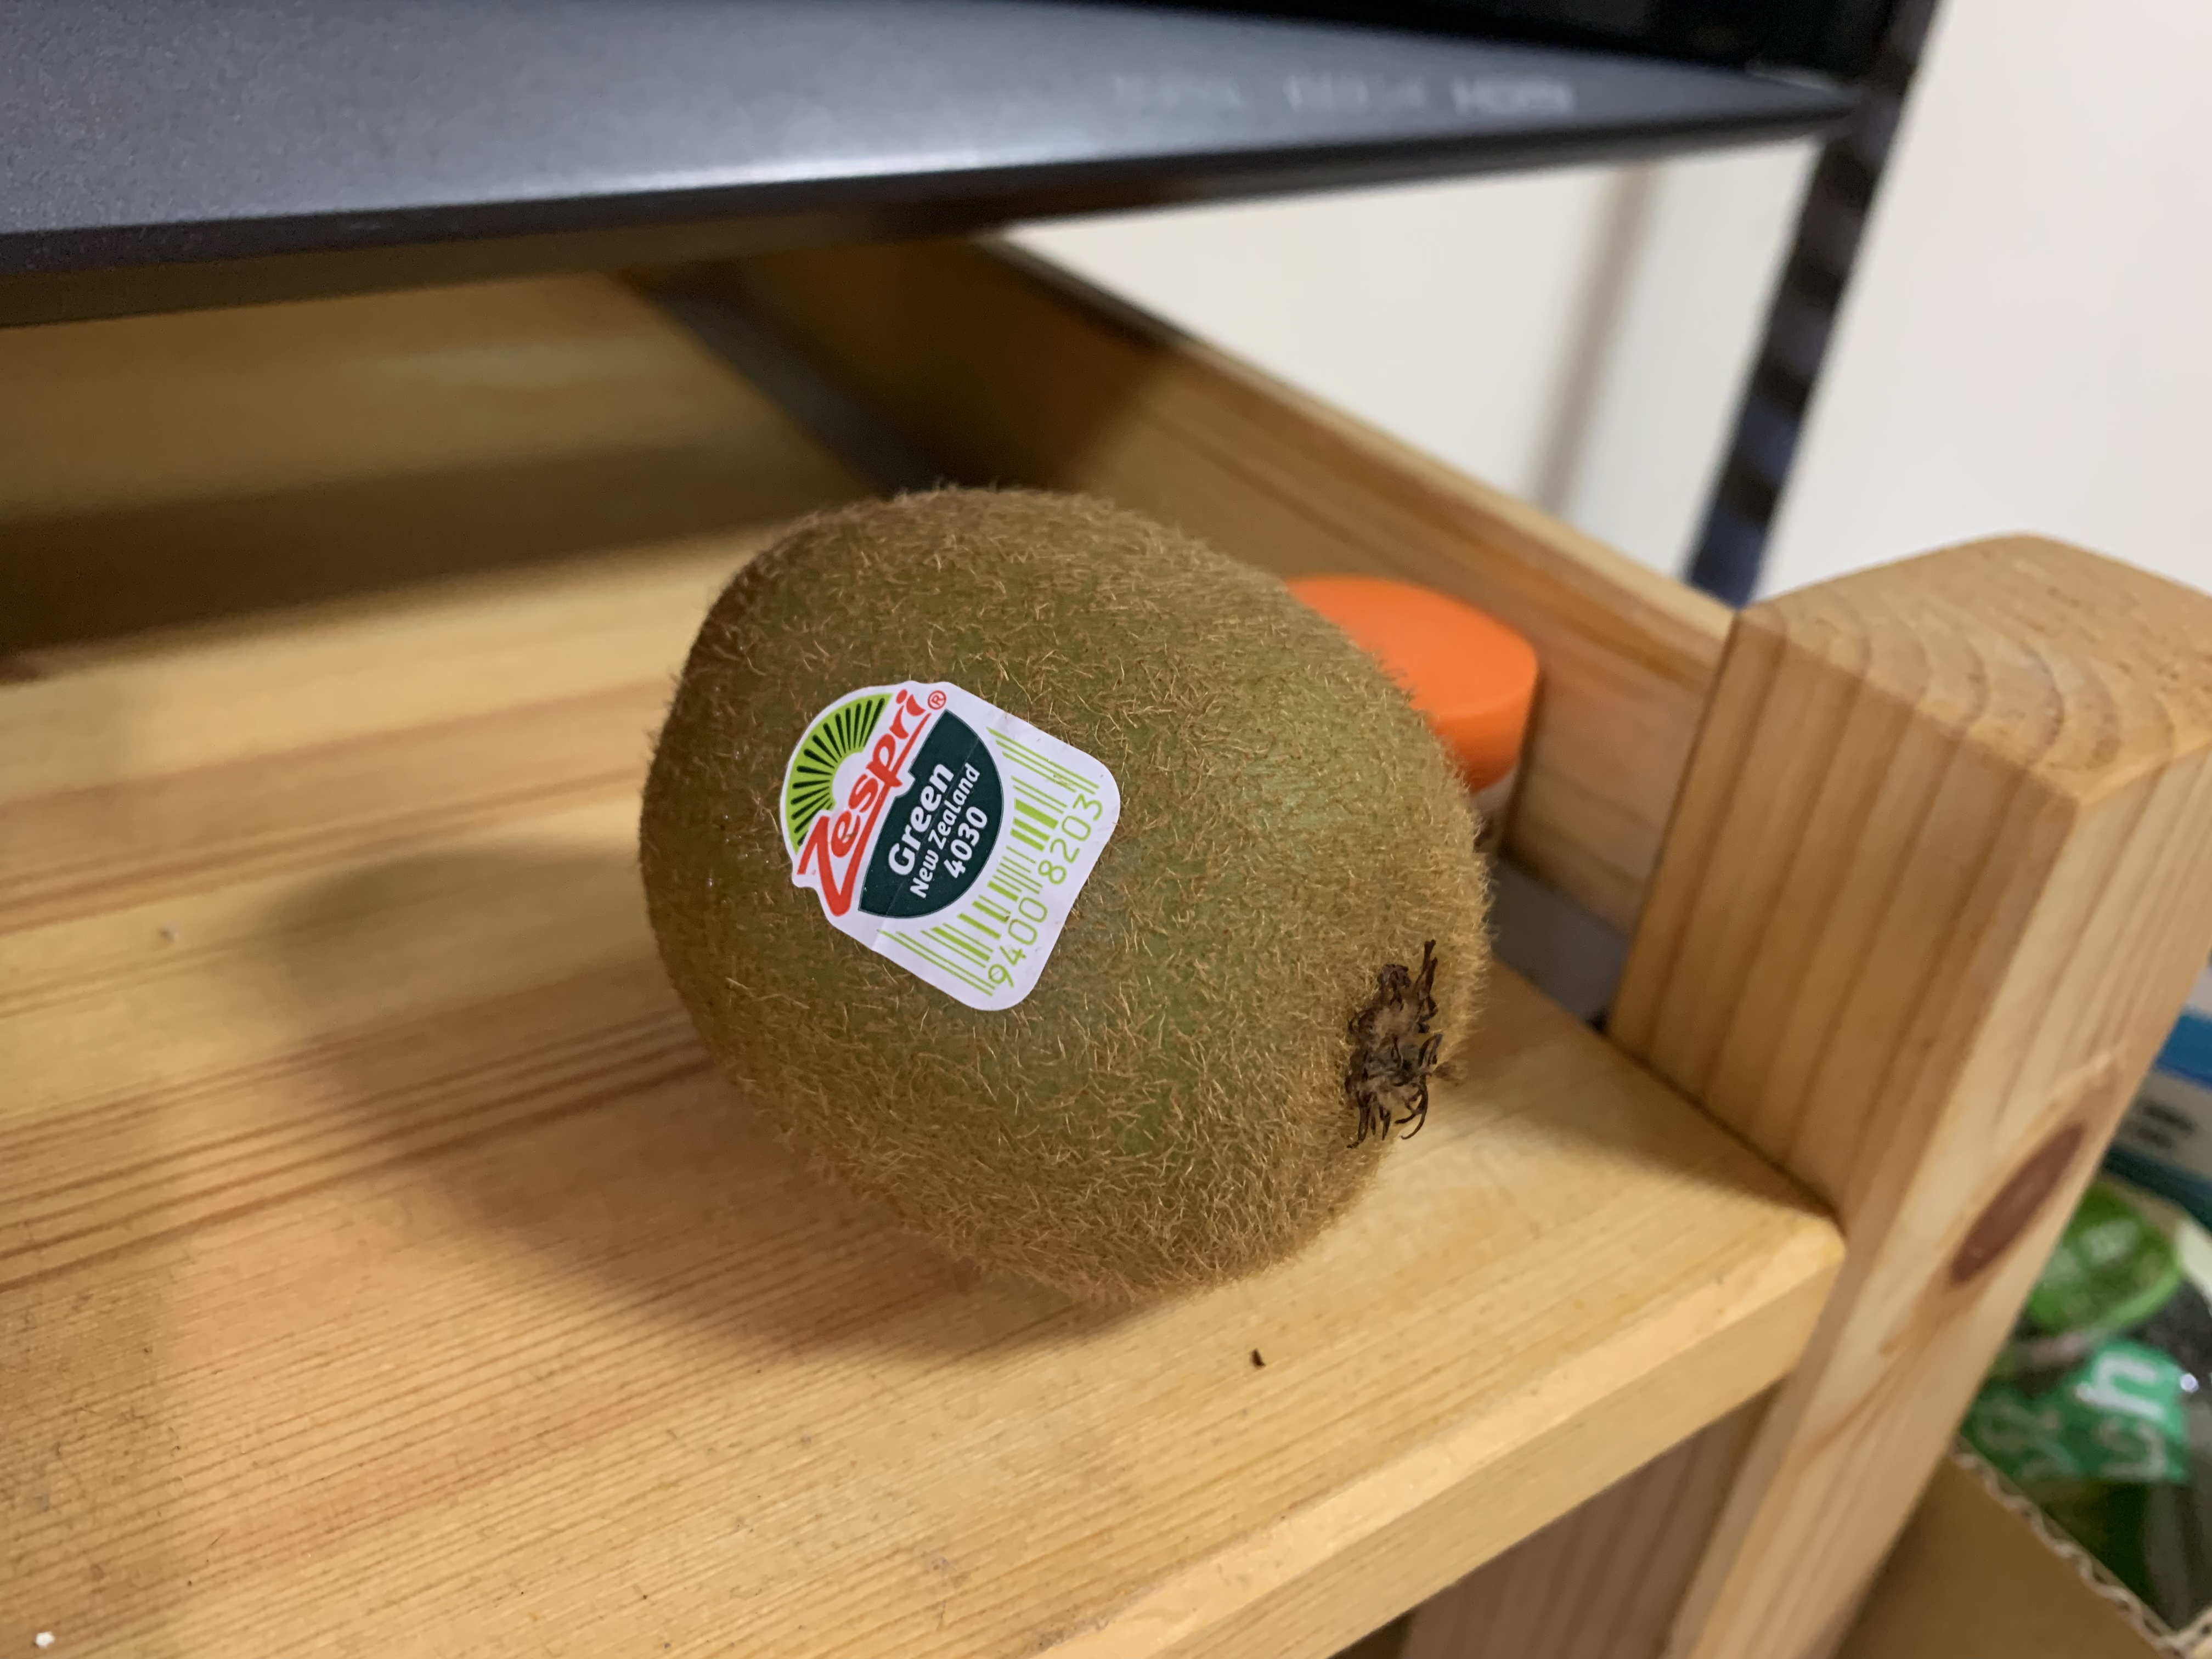kiwi: (639, 486, 1487, 1302)
